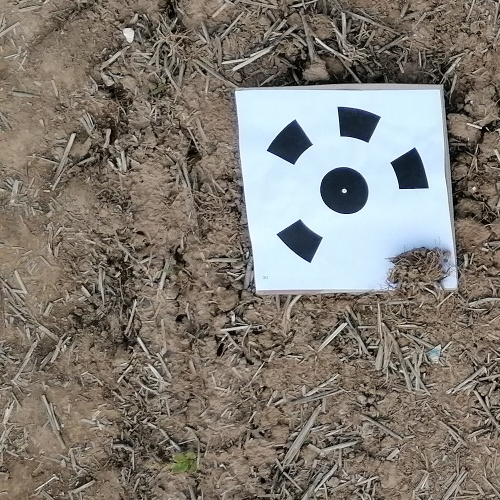beet: (170, 450, 199, 475)
